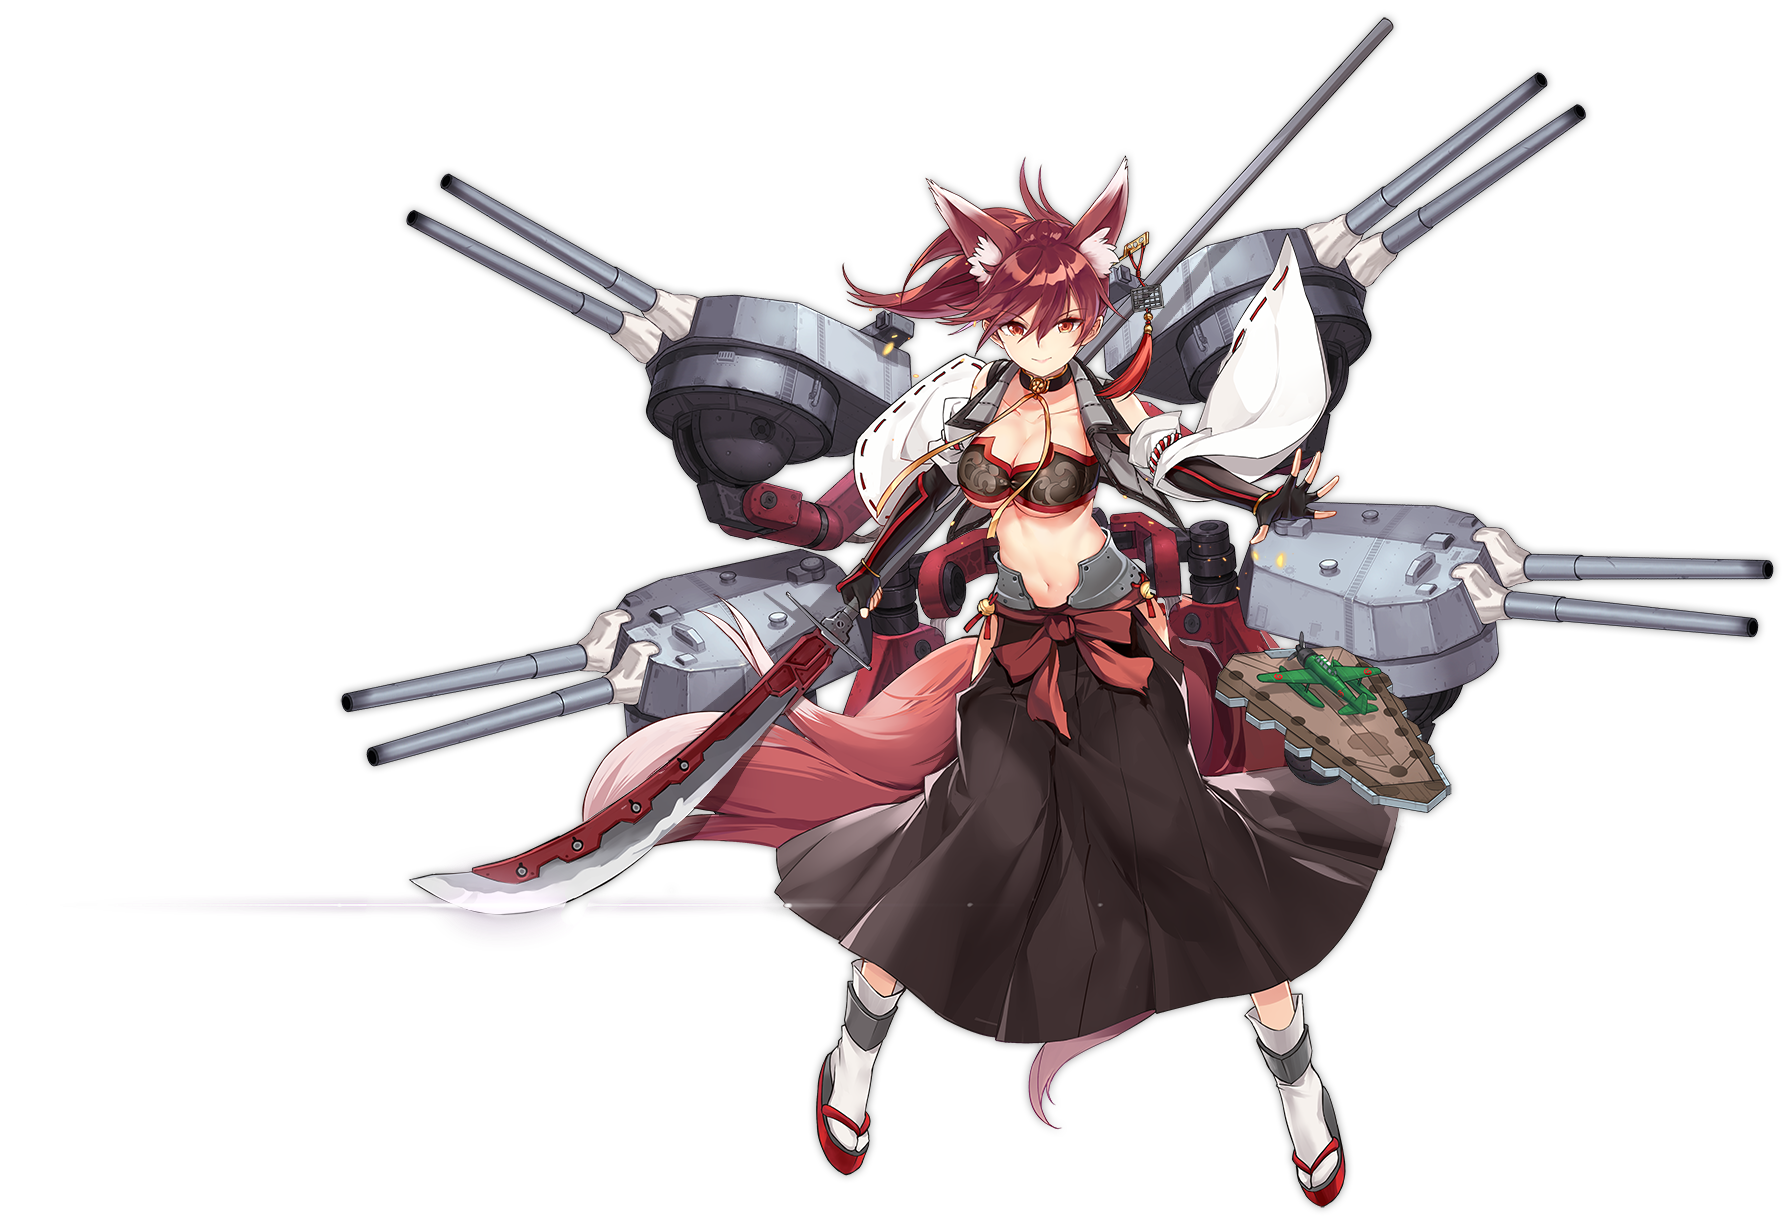person: (718, 191, 1376, 1028)
